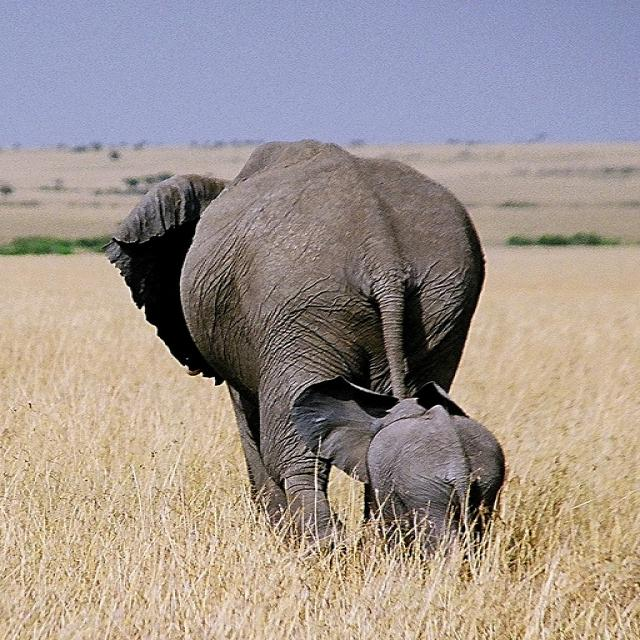Elephant: (100, 137, 490, 557)
